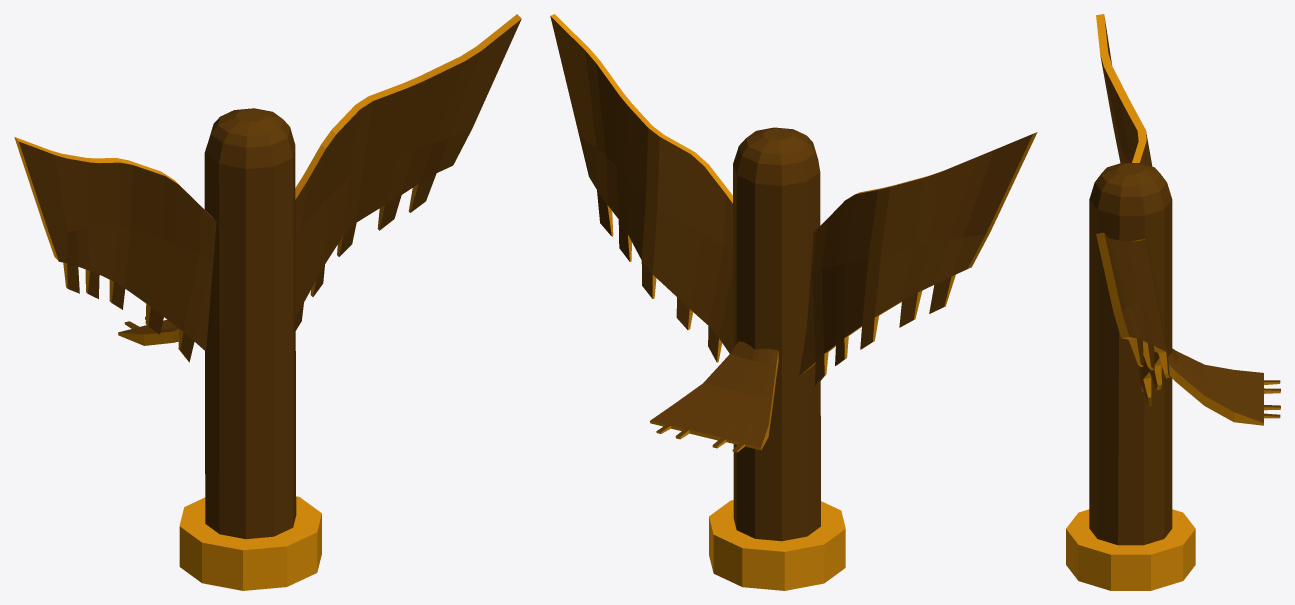
File: Totem.glb
The picture shows the model from 3 angles, left to right: view 1: azimuth 30°, elevation 25°; view 2: azimuth 150°, elevation 25°; view 3: azimuth 270°, elevation 25°; orthographic projection. The views are drawn at different scales.
Visible parts, largest first — view 1: Totem; view 2: Totem; view 3: Totem.
Part boxes in pixels (<box>): Totem: <box>14,14,521,590</box>; Totem: <box>550,14,1037,590</box>; Totem: <box>1066,14,1280,590</box>.
Size of what is drawn, in the model's own units: 2.25 by 2.12 by 0.936.
